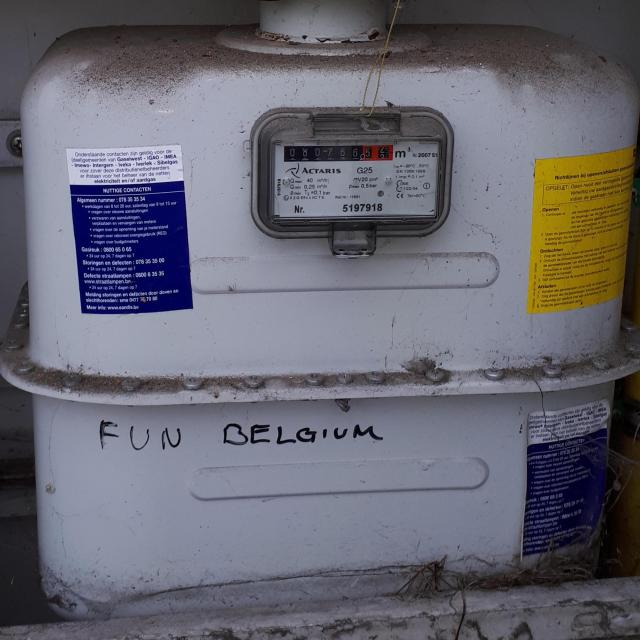gaz_meter: (270, 142, 439, 216)
indication: (280, 143, 397, 166)
